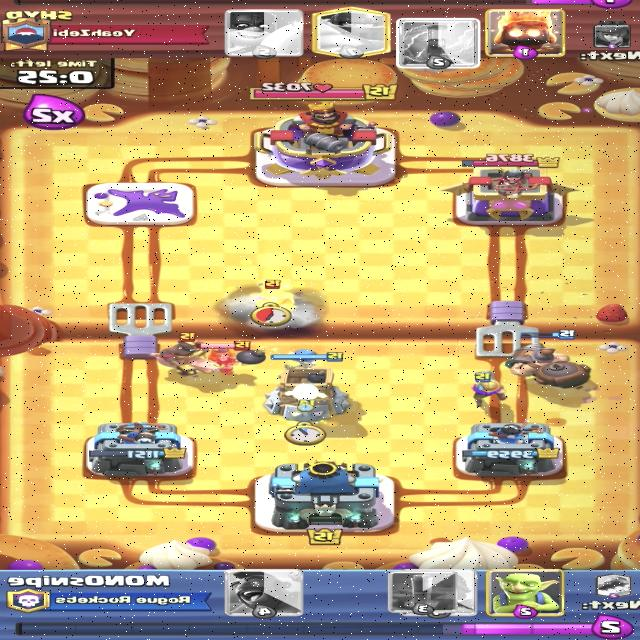Enemy-Hog: (149, 332, 221, 377)
Enemy-Musketeer: (250, 278, 300, 316)
Enemy-Valkyrie: (188, 341, 255, 374)
Player-BombTower: (262, 346, 350, 423)
Player-IceSpirit: (284, 382, 327, 408)
Player-MightyMiner: (494, 330, 596, 389)
Player-Musketeer: (468, 371, 509, 408)
